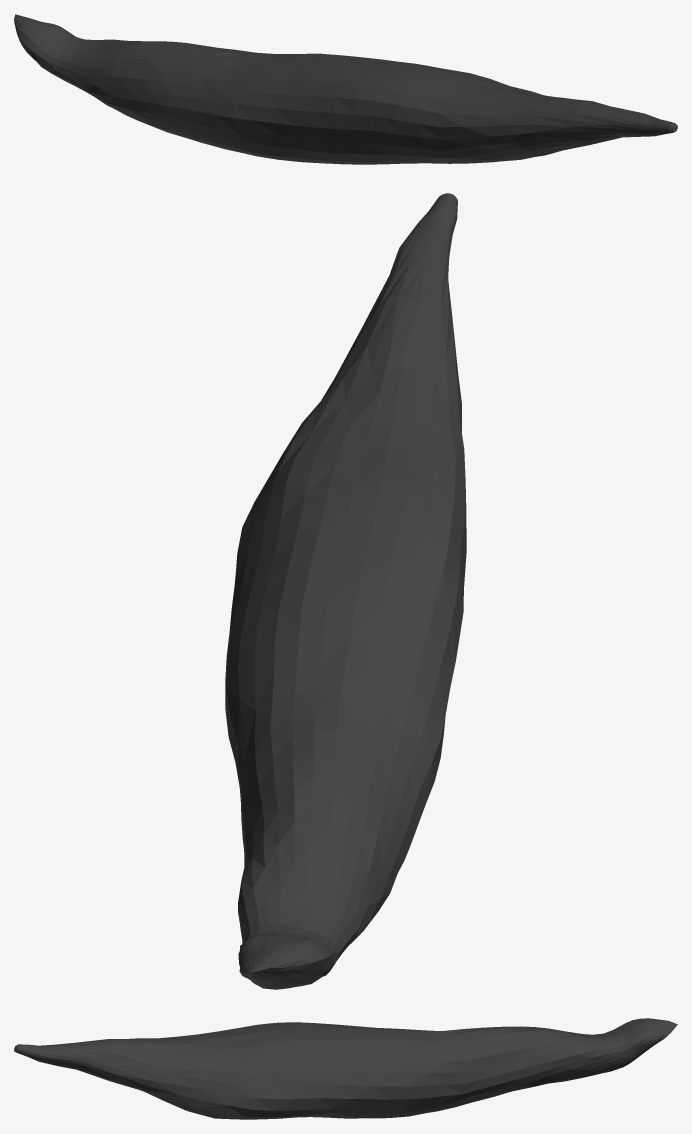
Rendered from BicepsBrachii_1.glb.
The picture shows the model from 3 angles, top to bottom: view 1: azimuth 30°, elevation 25°; view 2: azimuth 150°, elevation 25°; view 3: azimuth 270°, elevation 25°; orthographic projection. The views are drawn at different scales.
Parts seen in each view (by area): view 1: BicepsBrachii_1; view 2: BicepsBrachii_1; view 3: BicepsBrachii_1.
Part boxes in pixels (x1,y1,x2,y2): BicepsBrachii_1: [14, 14, 677, 164]; BicepsBrachii_1: [225, 193, 466, 989]; BicepsBrachii_1: [14, 1018, 677, 1119].
Size of the model in its own units: 0.0181 by 0.00951 by 0.0416.
Materials: 1 (1 with a texture image).
